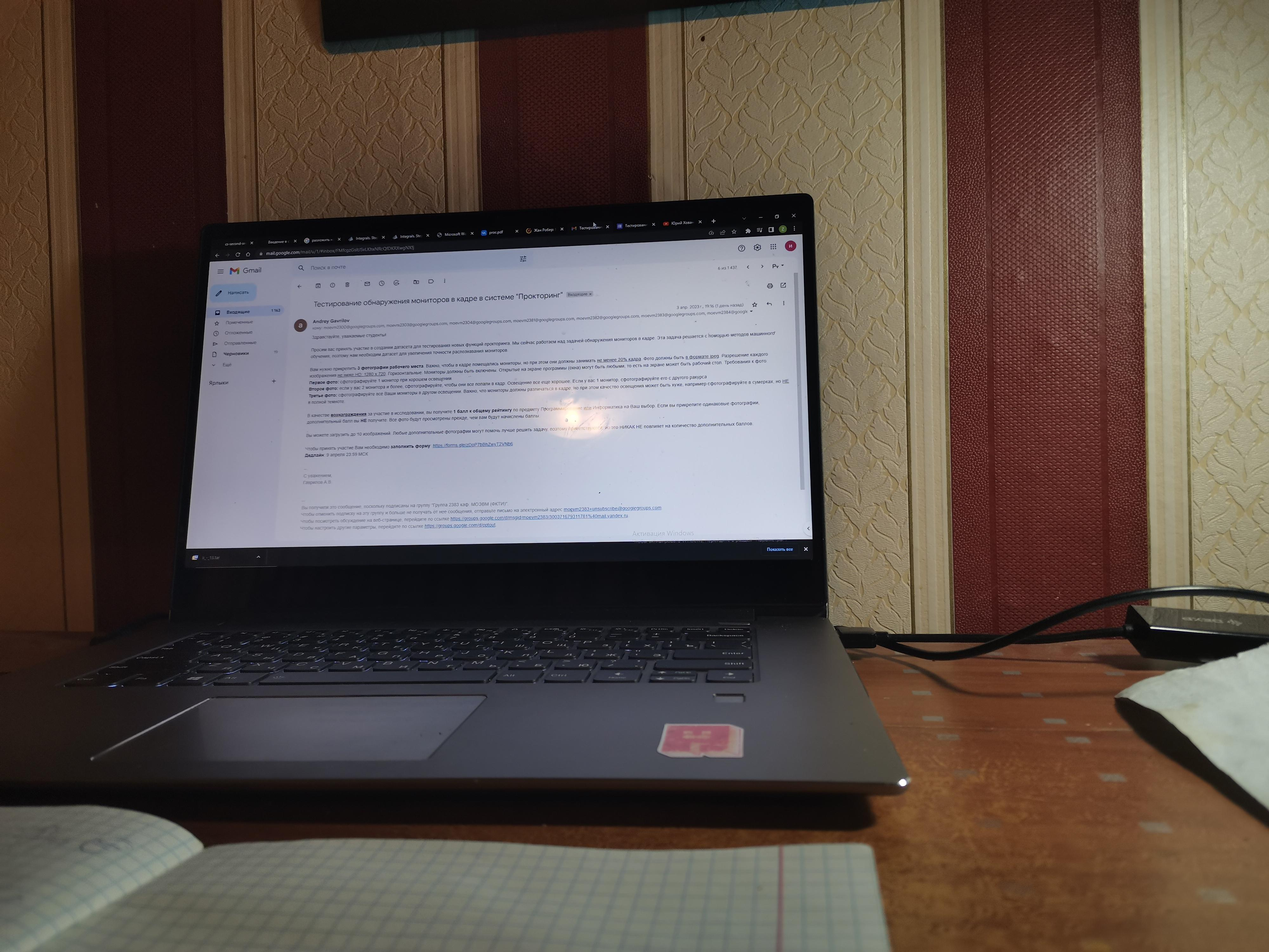monitor: (175, 193, 827, 612)
